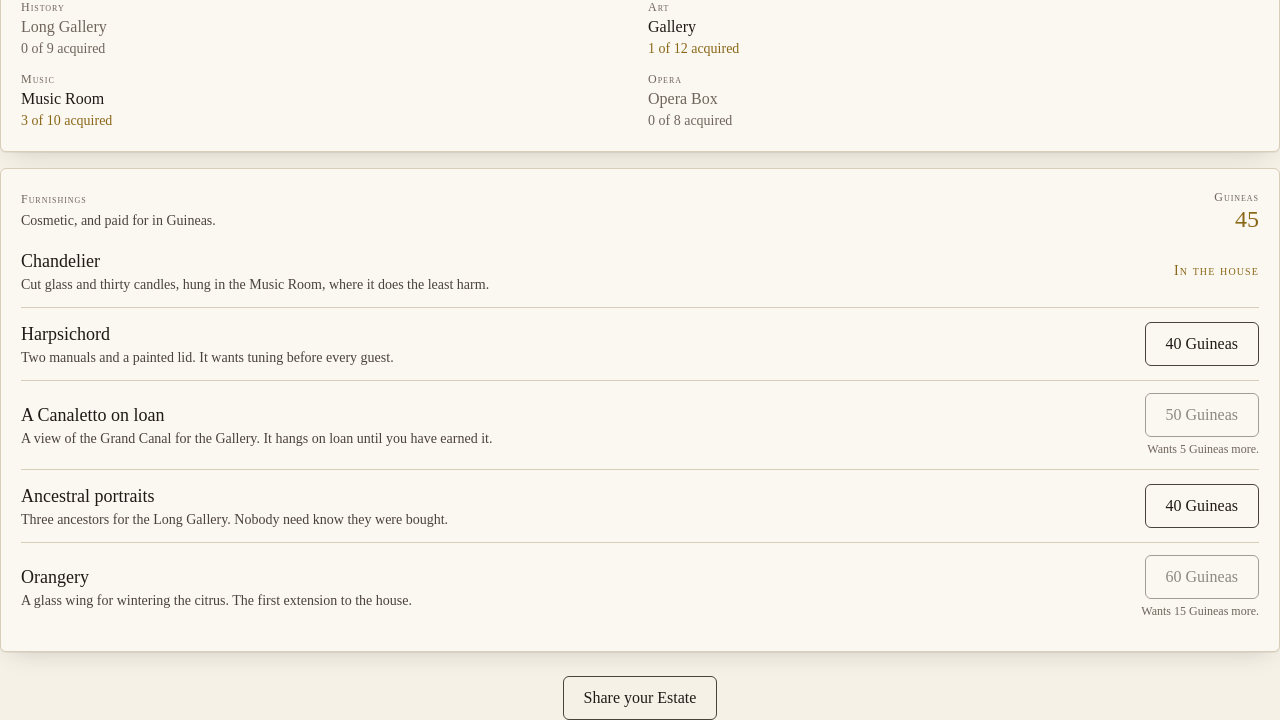
EstateScreen › opens the share card and offers a download when the device cannot share files
(page scrolled)
Click the button with test id "share-estate" at [640, 698], box x1=563 y1=676 x2=718 y2=719
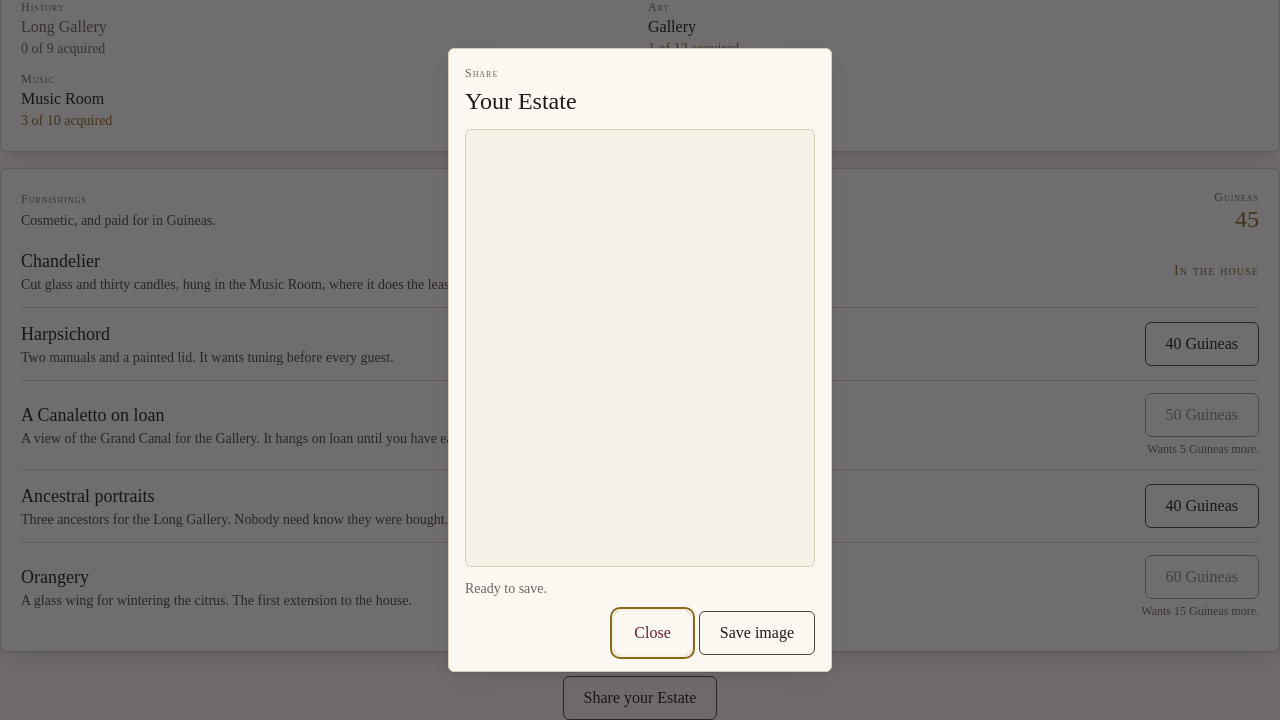
Expected: the text with test id "share-status" reads "Ready to save.", x1=465 y1=581 x2=547 y2=596
Click the button with test id "share-close" at [653, 633], box x1=614 y1=611 x2=691 y2=655
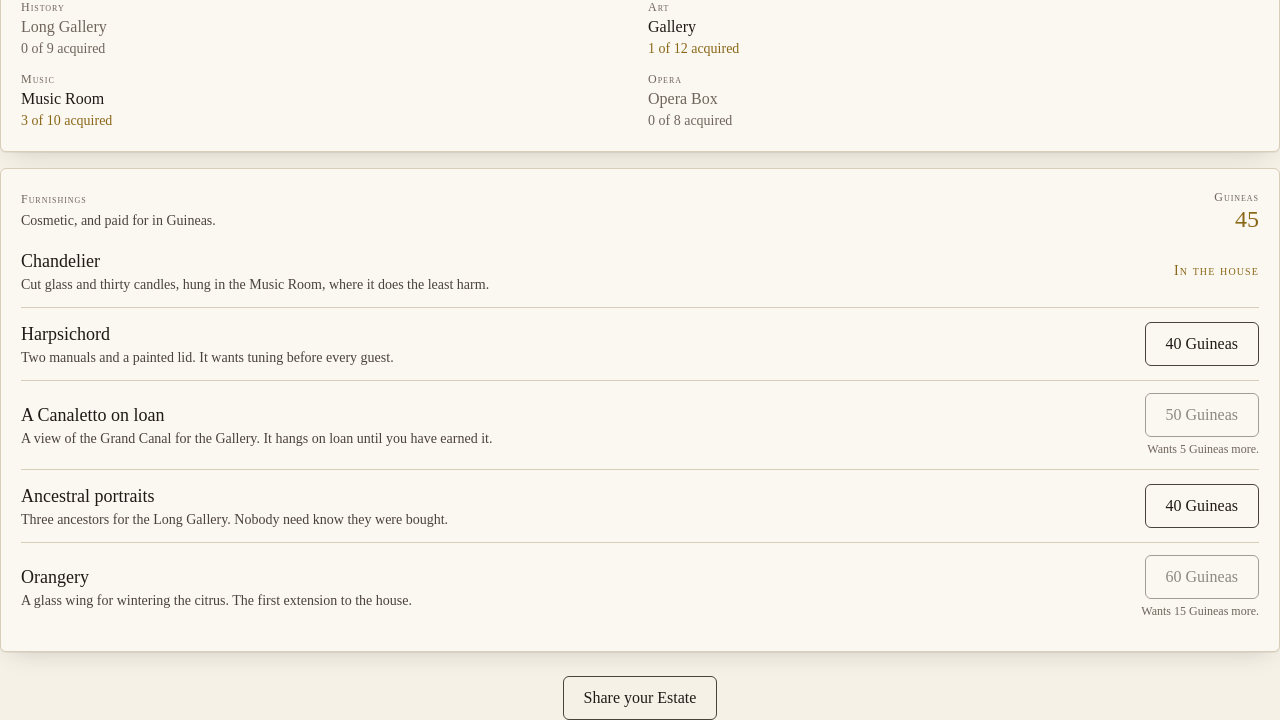
Expected: the dialog with test id "share-card" is gone
